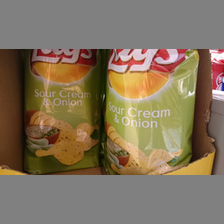chips: (103, 50, 200, 173), (22, 50, 101, 174)
